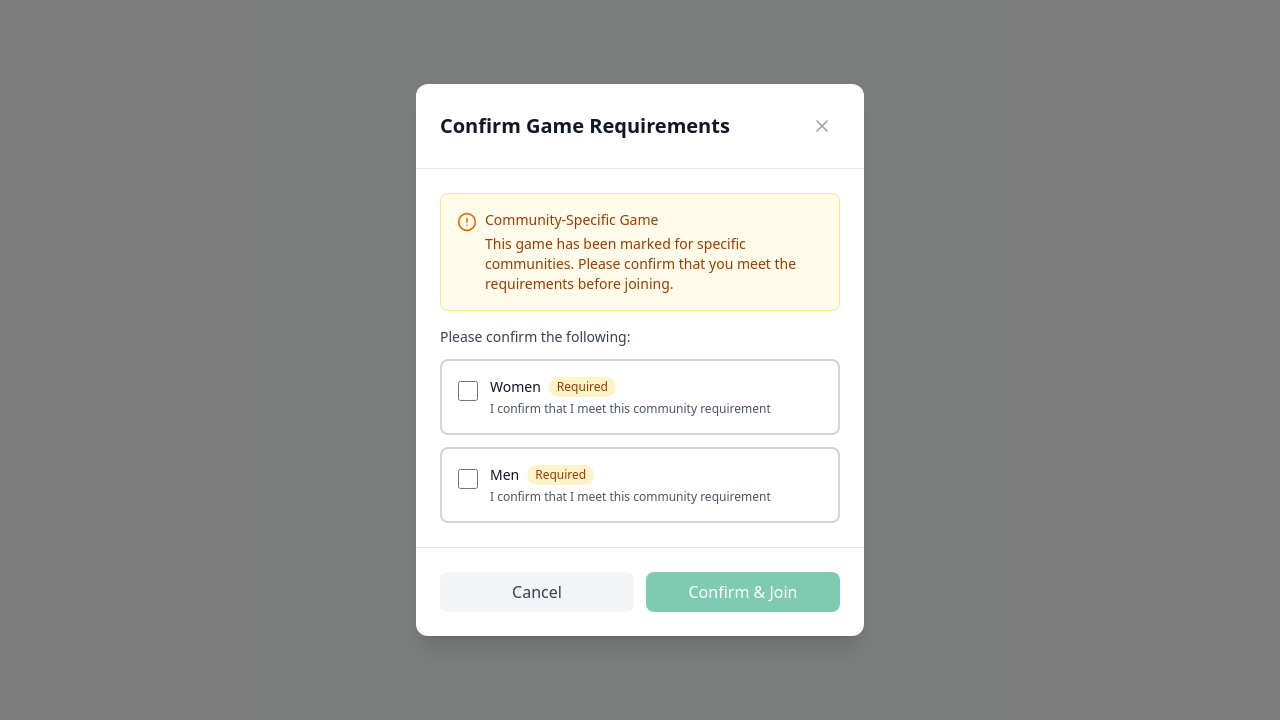
Test case: JoinConfirmationModal › should allow unchecking tags
This screenshot has width=1280, height=720.
Note: Check both
Click the 1st checkbox.
click(468, 391)  # box [458,381,478,401]
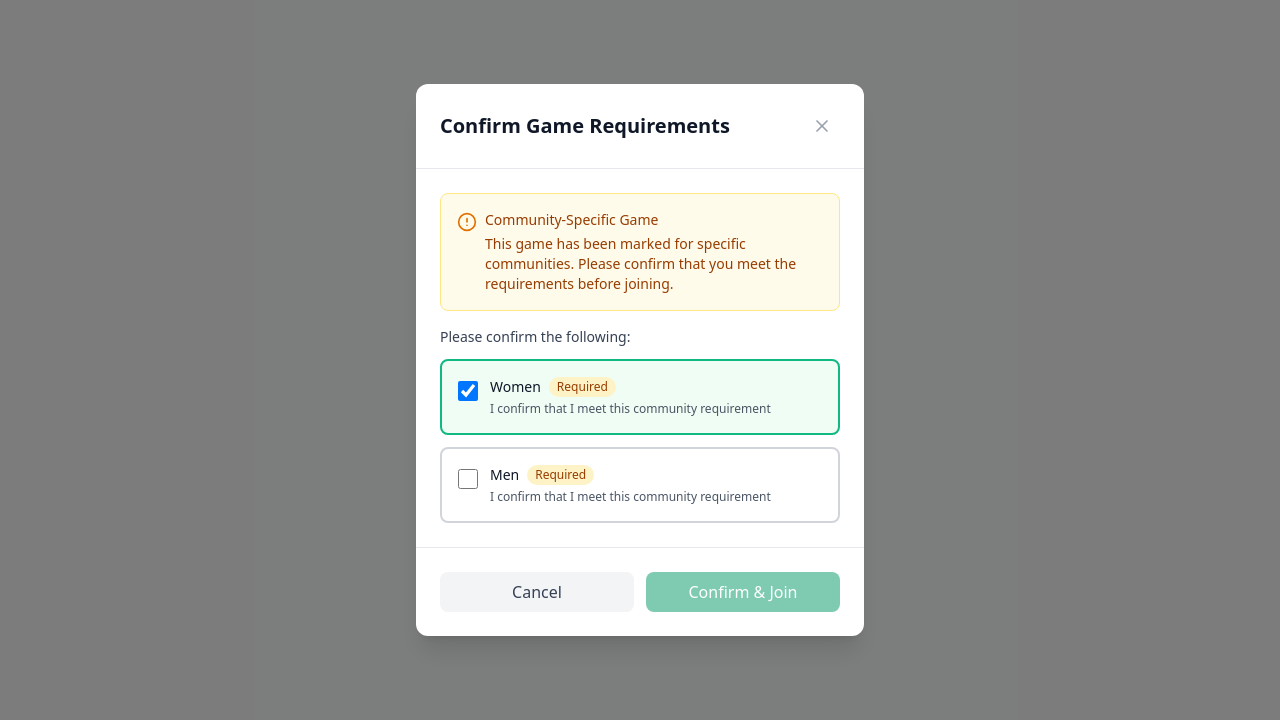
Click the 2nd checkbox.
click(468, 479)  # box [458,469,478,489]
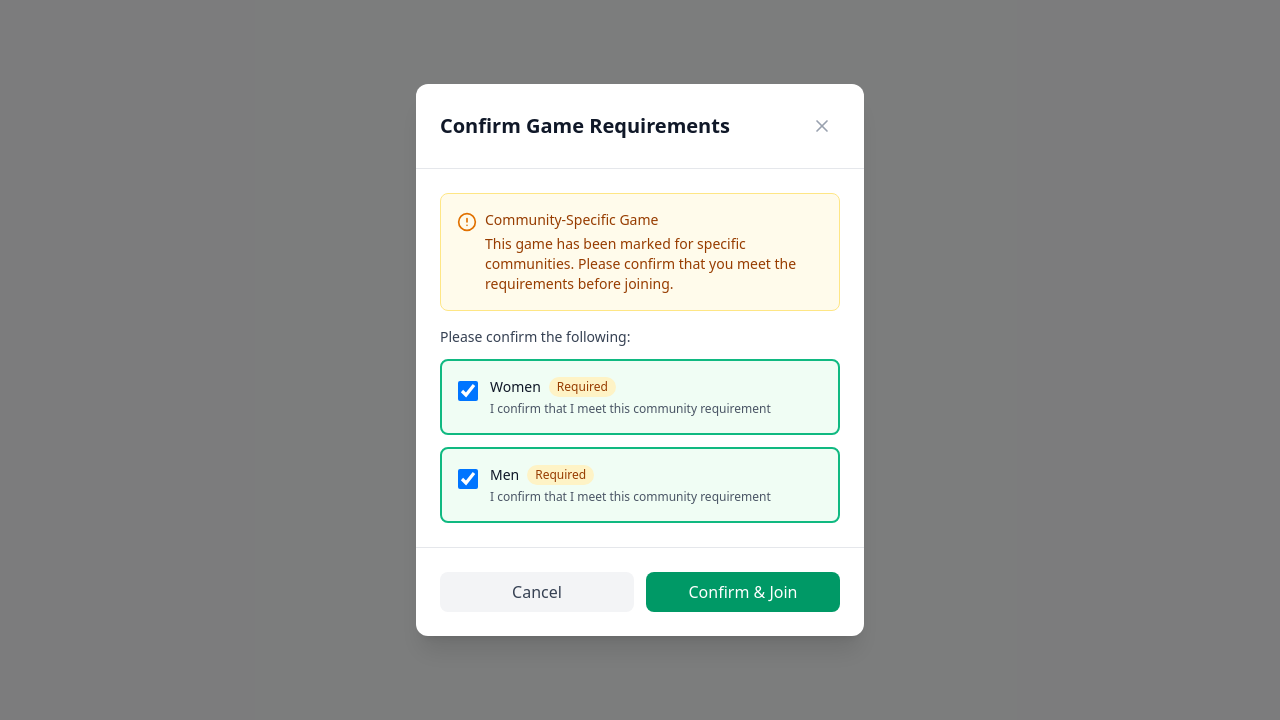
Expected: the button "Confirm & Join" is enabled, [646,572,840,612]
Note: Uncheck one
Click the 1st checkbox.
click(468, 391)  # box [458,381,478,401]
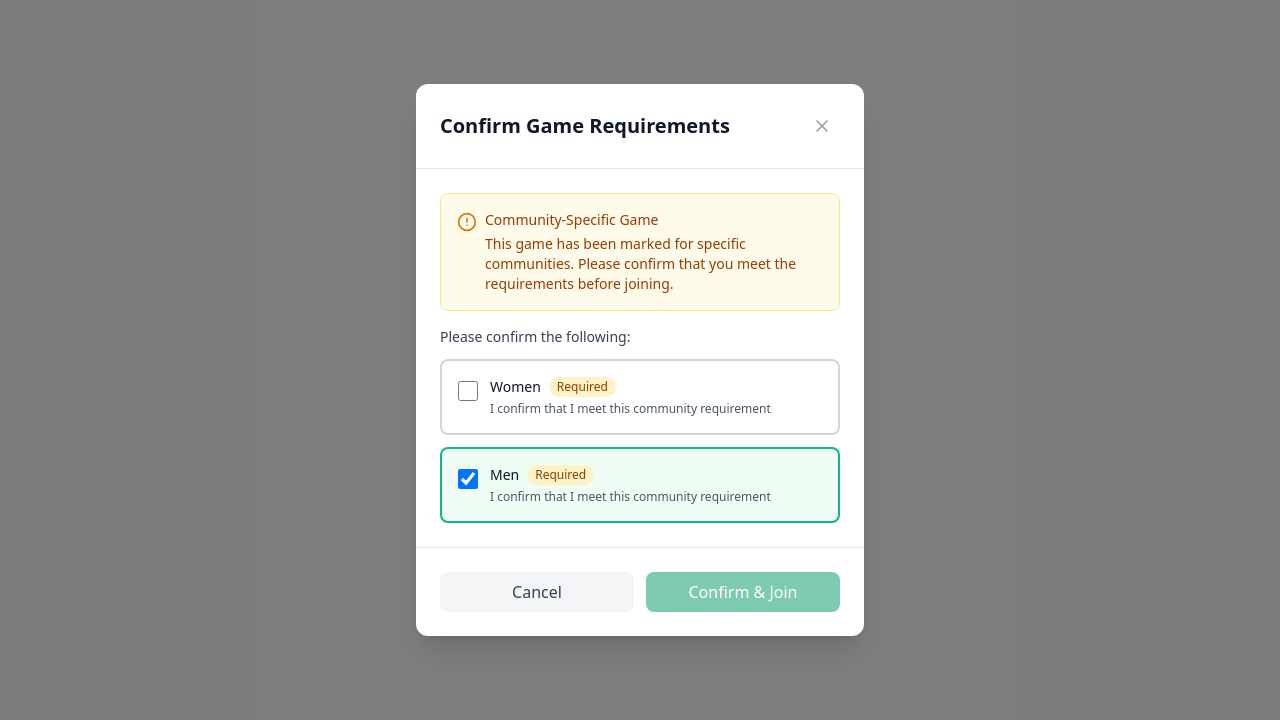
Expected: the button "Confirm & Join" is disabled, [646,572,840,612]
